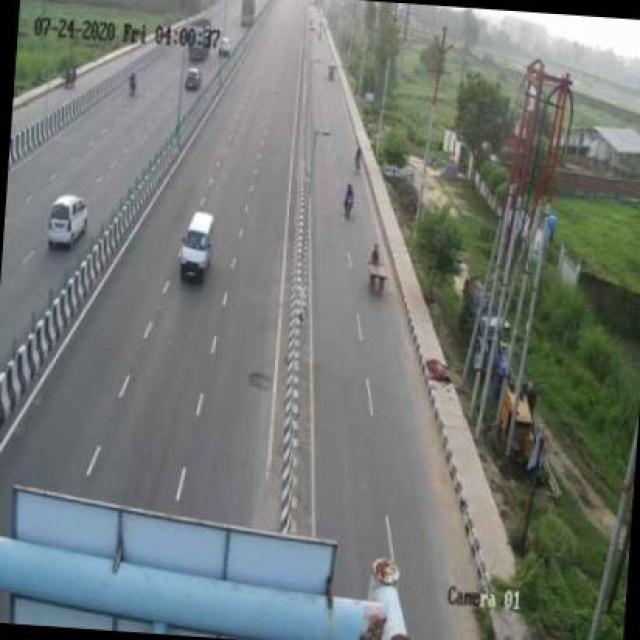car: (176, 206, 222, 294)
